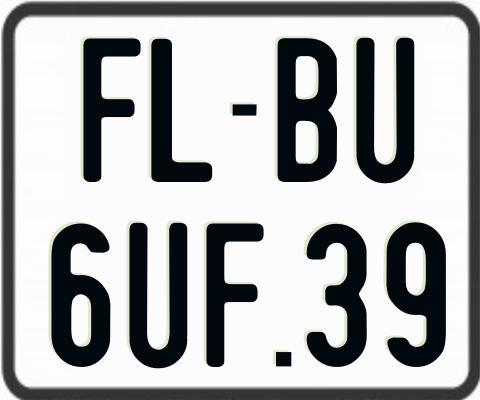3: (307, 224, 367, 372)
6: (48, 221, 112, 368)
9: (386, 219, 446, 370)
B: (277, 35, 337, 181)
F: (82, 36, 141, 185), (204, 222, 262, 371)
L: (149, 37, 213, 185)
U: (356, 37, 420, 188), (129, 220, 188, 367)
